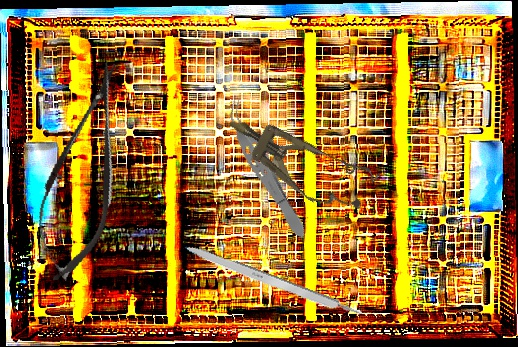Micro Scissor: (21, 54, 145, 289)
Scalpel Handle: (180, 241, 363, 322)
Speculum: (216, 97, 381, 224)
Tissue Forceps: (216, 94, 315, 245)
